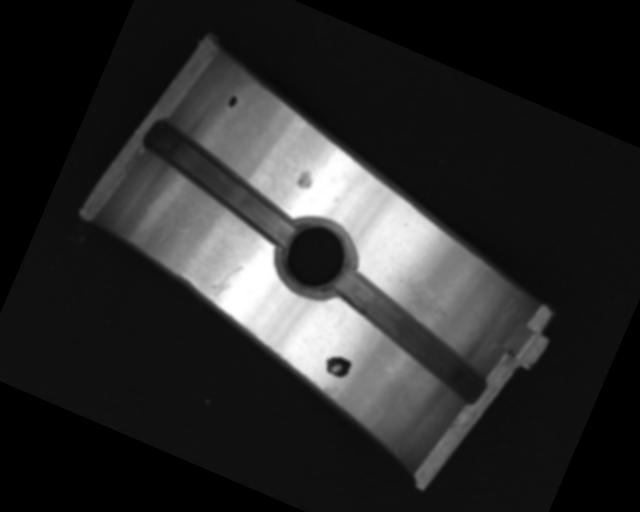blot: (321, 351, 355, 381), (225, 93, 240, 109)
bruise: (294, 166, 316, 192)
gap: (315, 266, 507, 405), (127, 116, 314, 243)
hole: (267, 206, 367, 307)
nick: (206, 257, 245, 307)
scratch: (392, 268, 483, 342)
